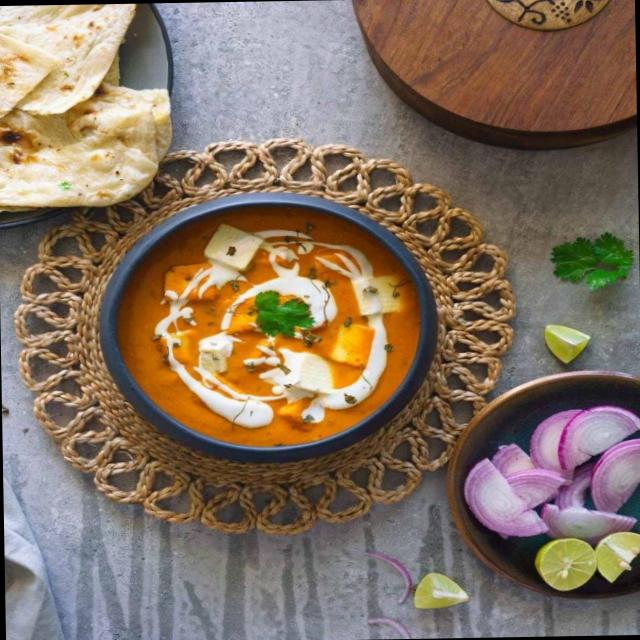roti: (0, 18, 118, 183)
